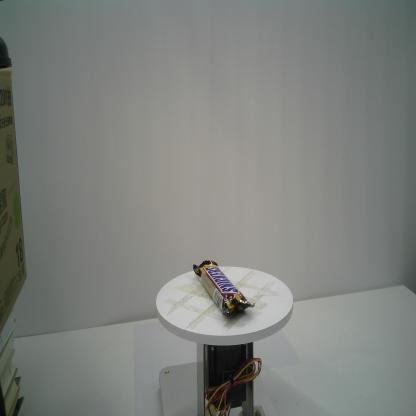Chocolate: (192, 260, 256, 318)
